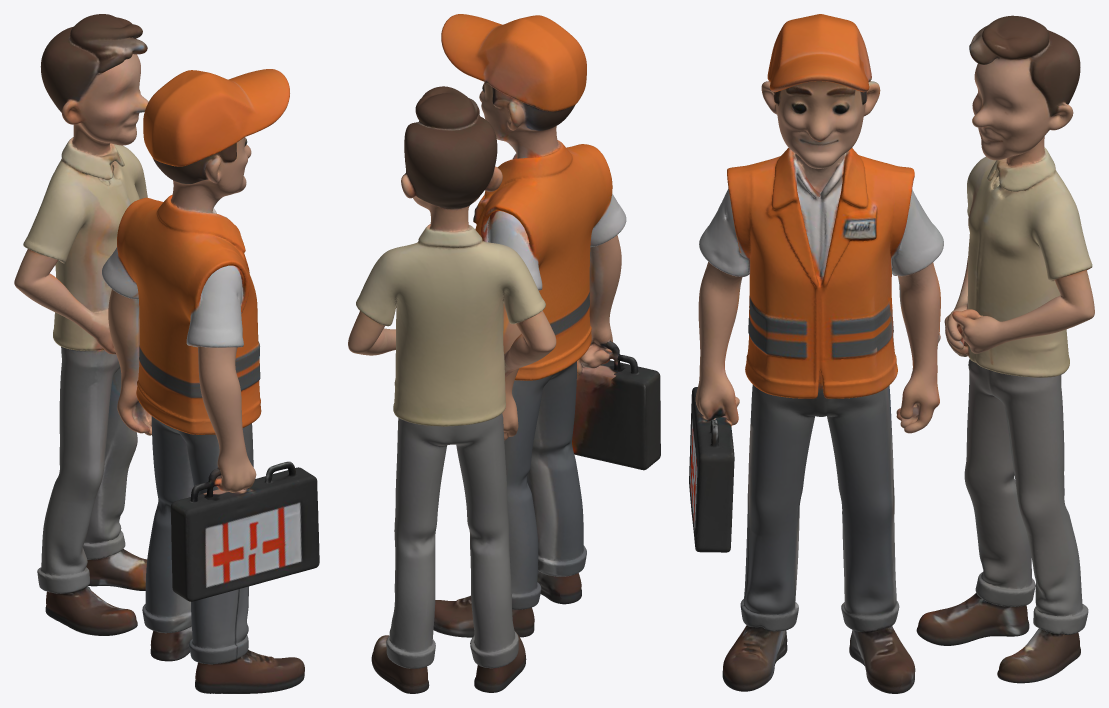
The model's file is marshal-clipboard.glb.
The picture shows the model from 3 angles, left to right: view 1: azimuth 30°, elevation 25°; view 2: azimuth 150°, elevation 25°; view 3: azimuth 270°, elevation 25°; orthographic projection. The views are drawn at different scales.
Visible parts, largest first — view 1: tripo_node_704b82c5-572b-4305-b42d-b1adcc205c7b; view 2: tripo_node_704b82c5-572b-4305-b42d-b1adcc205c7b; view 3: tripo_node_704b82c5-572b-4305-b42d-b1adcc205c7b.
Boxes of the visible parts, x1,y1,x2,y2 form: tripo_node_704b82c5-572b-4305-b42d-b1adcc205c7b: (14,14,319,693); tripo_node_704b82c5-572b-4305-b42d-b1adcc205c7b: (348,14,660,693); tripo_node_704b82c5-572b-4305-b42d-b1adcc205c7b: (689,14,1094,693).
Bounding box in the file's own units: 0.3257 × 1 × 0.5711.
1 material, 1 textured.
